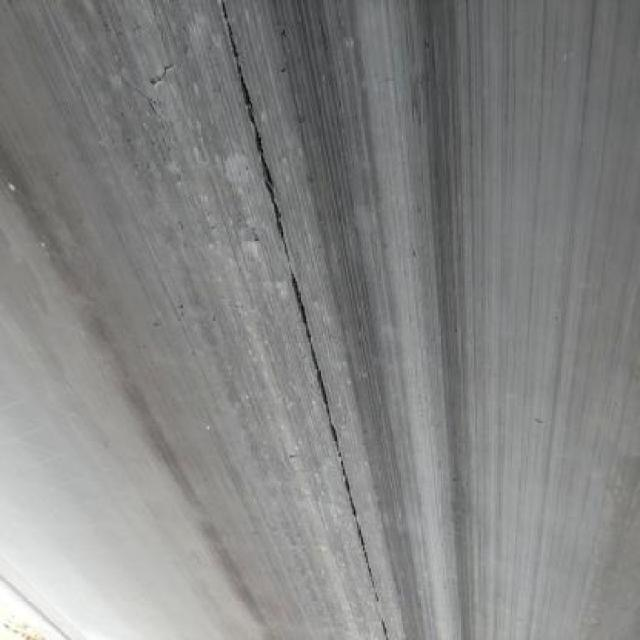Tear: (213, 0, 400, 640)
